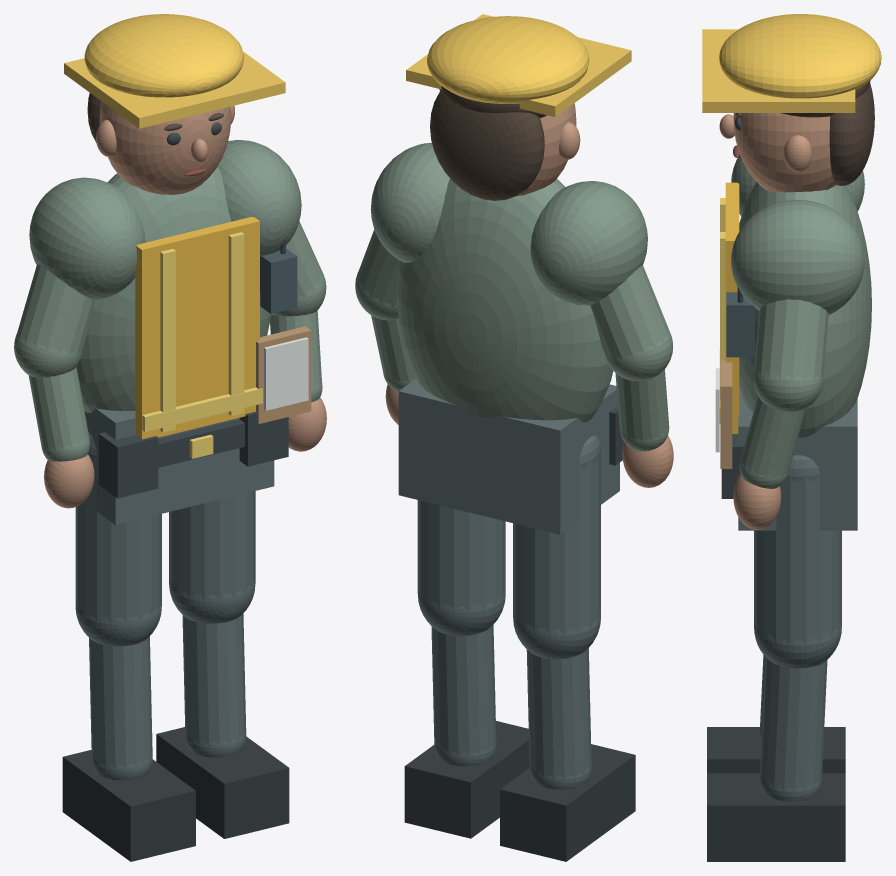
The model's file is player_logistics.glb.
3 views of the same model, side by side, from view 1: azimuth 30°, elevation 25°; view 2: azimuth 150°, elevation 25°; view 3: azimuth 270°, elevation 25° (orthographic).
Visible parts, largest first — view 1: vest_front, torso_base, hard_hat, shoulder_left, left_boot, left_trouser_upper, right_boot, pelvis, right_trouser_upper, right_trouser_lower, left_trouser_lower, head (+25 smaller); view 2: torso_base, pelvis, hard_hat, shoulder_left, left_trouser_upper, left_boot, hair_back, right_boot, right_trouser_upper, left_trouser_lower, right_trouser_lower, shoulder_right (+16 smaller); view 3: shoulder_right, right_trouser_upper, hard_hat, right_boot, torso_base, right_trouser_lower, head, pelvis, right_upper_arm, hard_hat_brim, left_boot, right_forearm (+15 smaller).
Part boxes in pixels (x1,y1,x2,y2): vest_front: (135,217,259,439); torso_base: (76,166,271,412); hard_hat: (84,14,243,97); shoulder_left: (29,177,145,299); left_boot: (62,750,195,861); left_trouser_upper: (75,457,161,624); right_boot: (156,727,289,838); pelvis: (84,408,274,524); right_trouser_upper: (169,491,255,601); right_trouser_lower: (182,613,246,746); left_trouser_lower: (89,636,152,769); head: (99,101,231,194); torso_base: (396,178,613,422); pelvis: (398,379,619,534); hard_hat: (427,16,589,103); shoulder_left: (530,181,647,305); left_trouser_upper: (513,451,600,635); left_boot: (500,744,635,861); hair_back: (430,91,544,200); right_boot: (404,721,529,838); right_trouser_upper: (417,500,505,612); left_trouser_lower: (526,648,591,780); right_trouser_lower: (431,624,496,757); shoulder_right: (370,142,449,262); shoulder_right: (731,200,864,314); right_trouser_upper: (754,474,841,645); hard_hat: (719,14,881,98); right_boot: (707,773,845,861); torso_base: (739,182,871,437); right_trouser_lower: (759,657,827,791); head: (733,113,835,192); pelvis: (738,387,857,530); right_upper_arm: (754,299,828,381); hard_hat_brim: (702,29,855,112); left_boot: (707,727,845,773); right_forearm: (741,396,805,479).
Size of the model in its own units: 0.7449 by 1.83 by 0.375.
